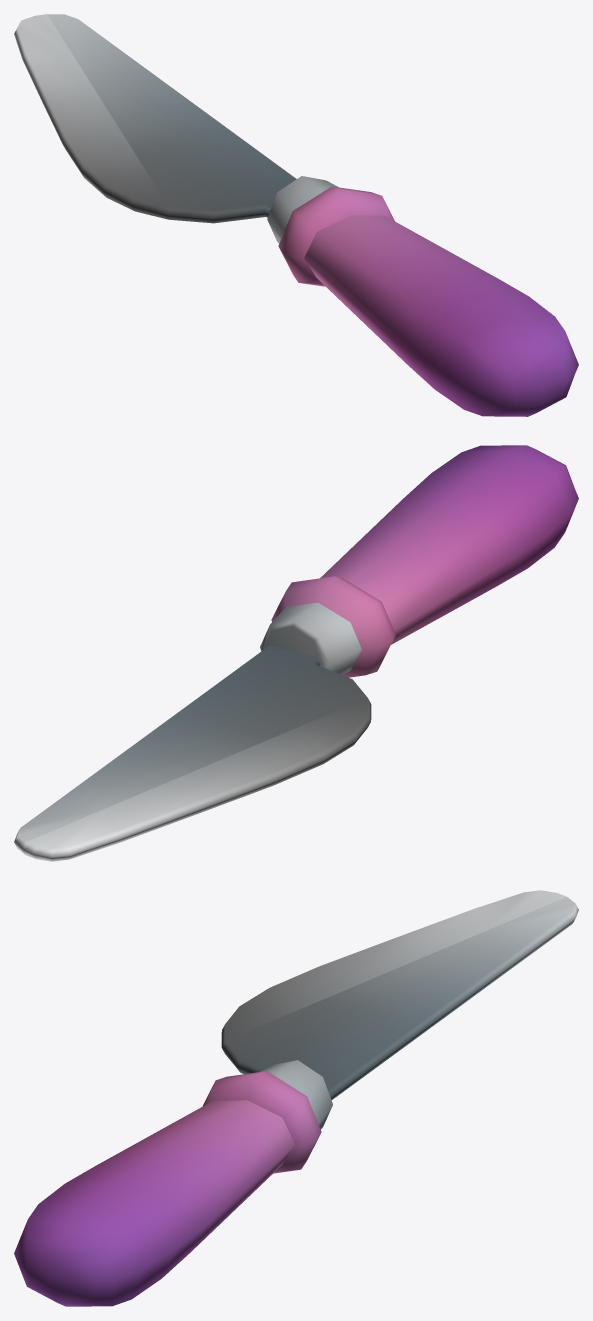
The model's file is knife_001.fbx.
The picture shows the model from 3 angles, top to bottom: view 1: azimuth 30°, elevation 25°; view 2: azimuth 150°, elevation 25°; view 3: azimuth 330°, elevation 25°; orthographic projection. The views are drawn at different scales.
Parts seen in each view (by area): view 1: knife_001; view 2: knife_001; view 3: knife_001.
Boxes of the visible parts, box(x1,y1,x2,y2) form: knife_001: box(14, 14, 578, 416); knife_001: box(14, 445, 578, 861); knife_001: box(14, 890, 578, 1306).
Bounding box in the file's own units: 4.95 × 22.42 × 2.43.
